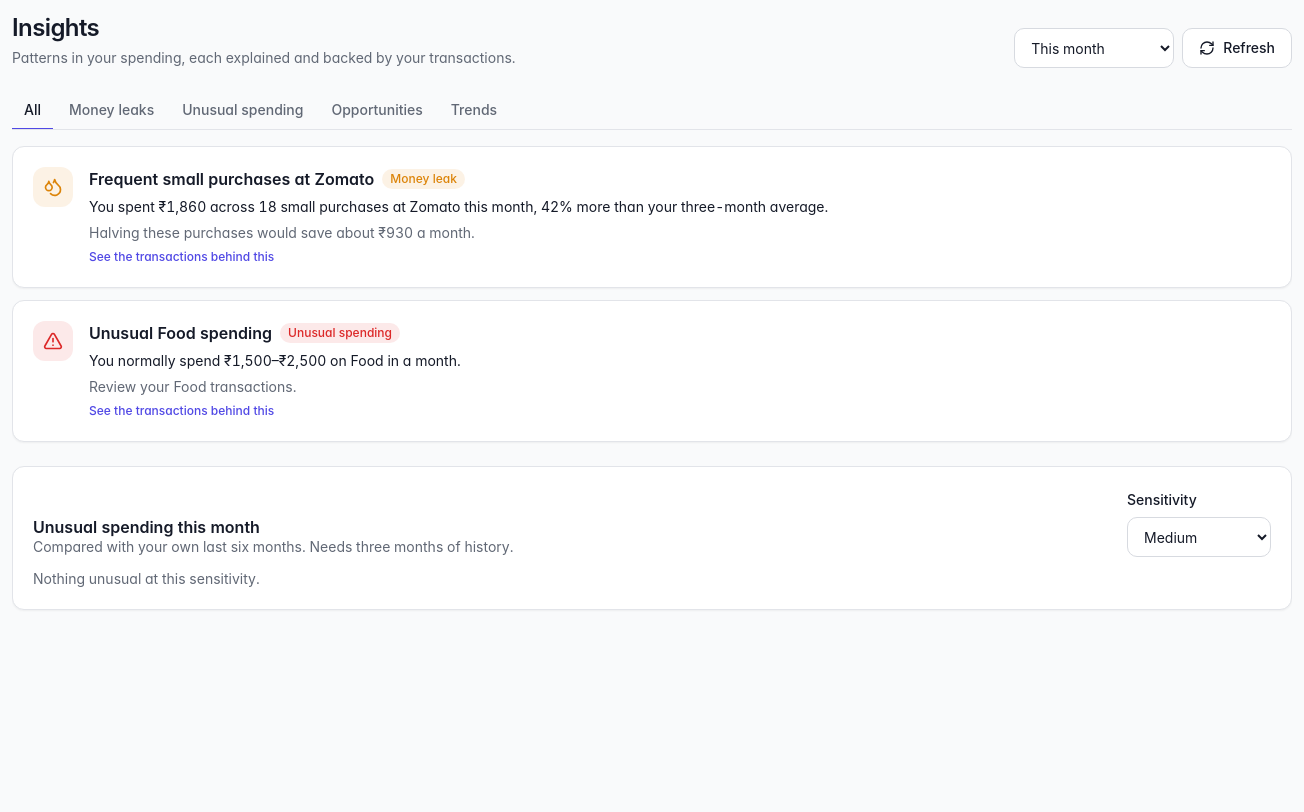
Scenario: InsightsPage › filters by insight type
Expected: the list named "Insights" is shown, 12,146 -> 1292,442
Click the tab "Unusual spending": (243, 111) 170,92 -> 315,130
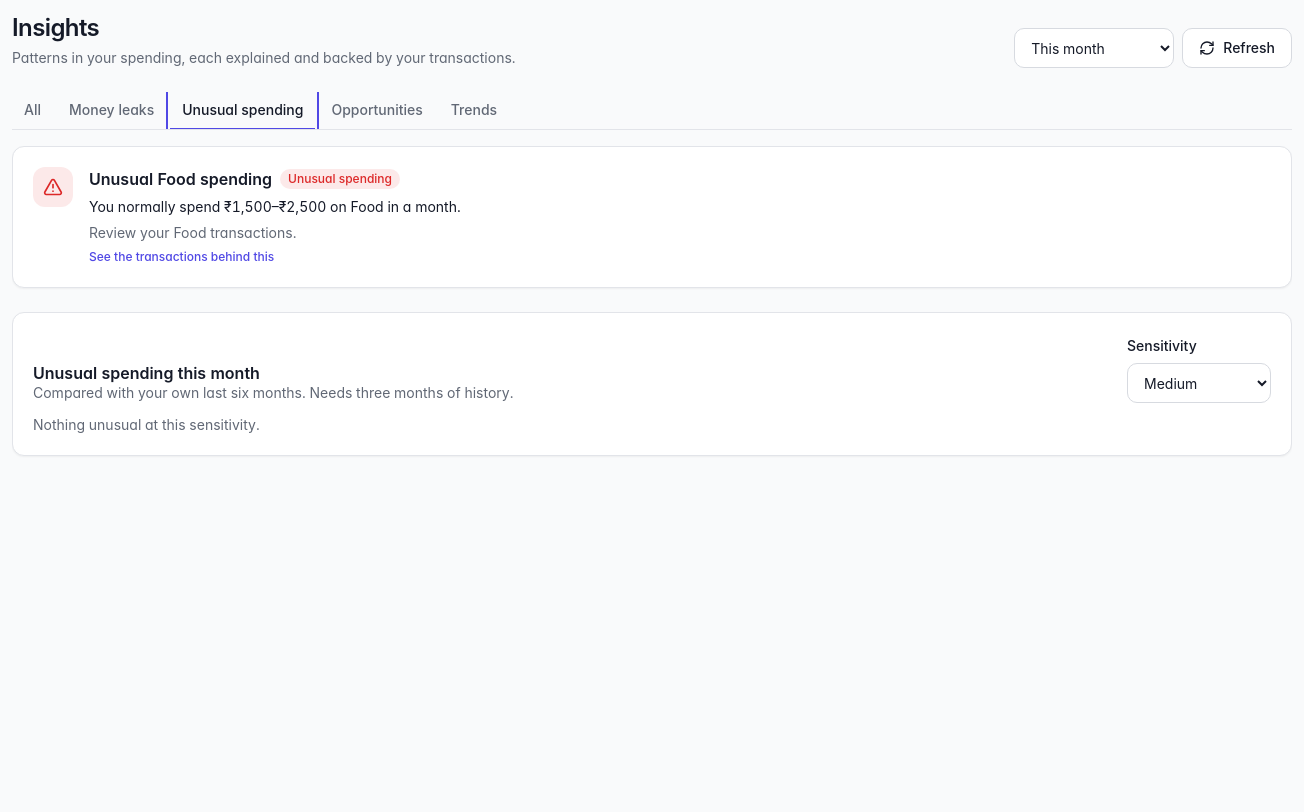
Expected: the heading "Unusual Food spending" is shown, 89,167 -> 272,191
Now the number of list items is 1, box 12,146 -> 1292,288
